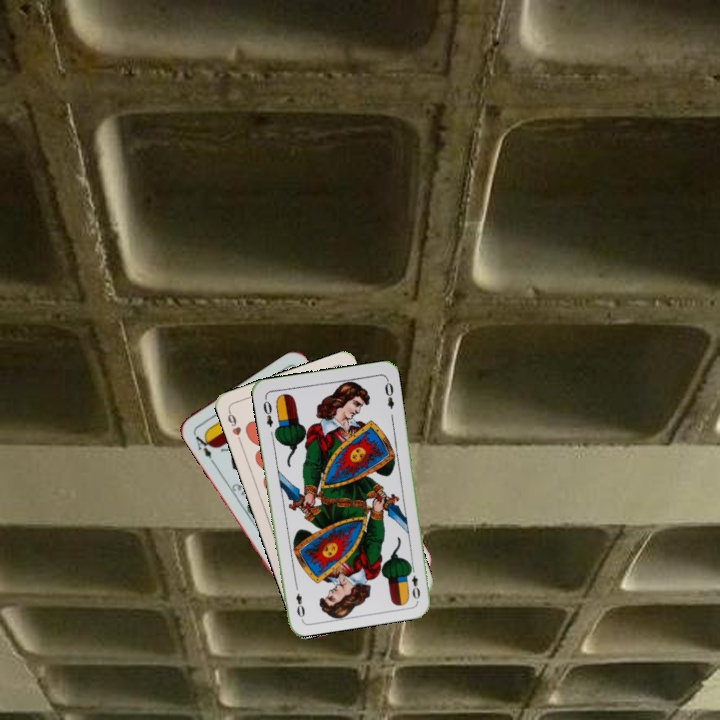EA: (190, 429, 217, 465)
EO: (405, 562, 423, 602), (259, 394, 276, 430)
H9: (223, 406, 244, 446)
